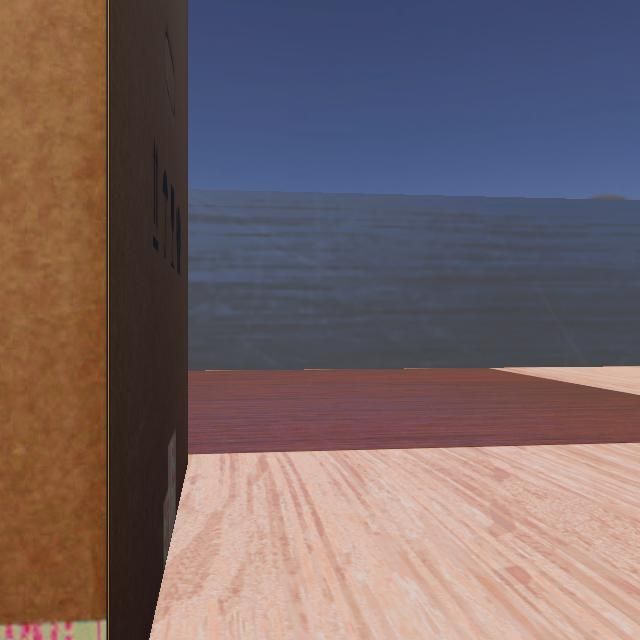cardboard-box: (1, 1, 260, 640)
